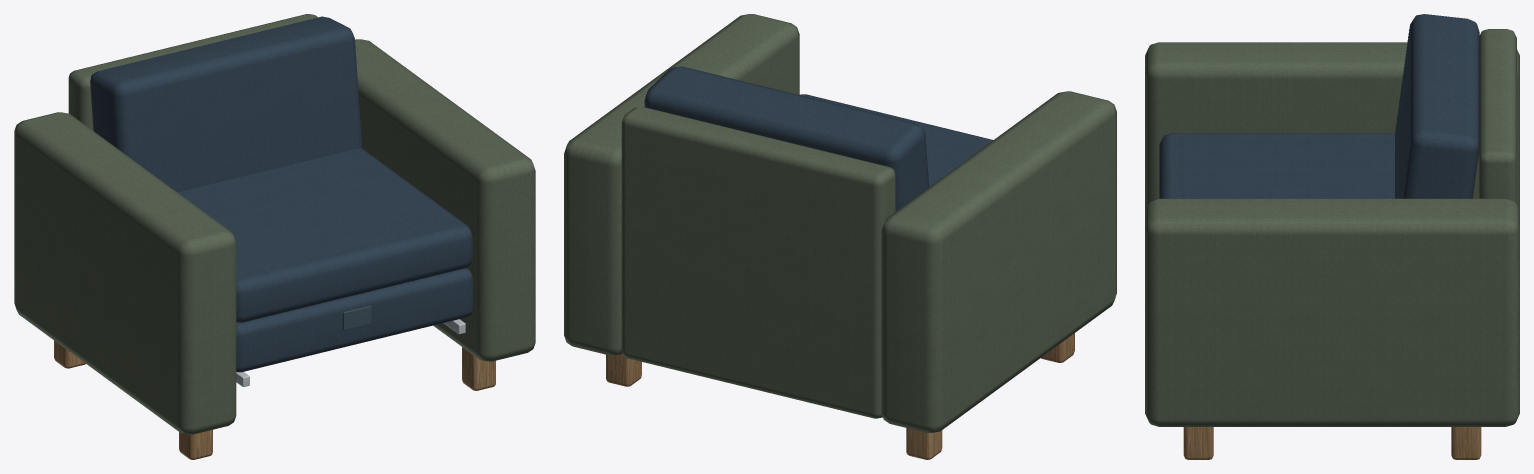
The model's file is chair-sleeper.glb.
3 renders of one model, left to right at view 1: azimuth 30°, elevation 25°; view 2: azimuth 150°, elevation 25°; view 3: azimuth 270°, elevation 25°, orthographic. The views are drawn at different scales.
Visible parts, largest first — view 1: chair-sleeper authored assembly; view 2: chair-sleeper authored assembly; view 3: chair-sleeper authored assembly.
Part boxes in pixels (bbox=[...]): chair-sleeper authored assembly: bbox=[14, 14, 535, 459]; chair-sleeper authored assembly: bbox=[564, 14, 1116, 459]; chair-sleeper authored assembly: bbox=[1145, 14, 1519, 459].
Bounding box in the file's own units: 1.06 × 0.82 × 0.9.
5 materials, 4 textured.
